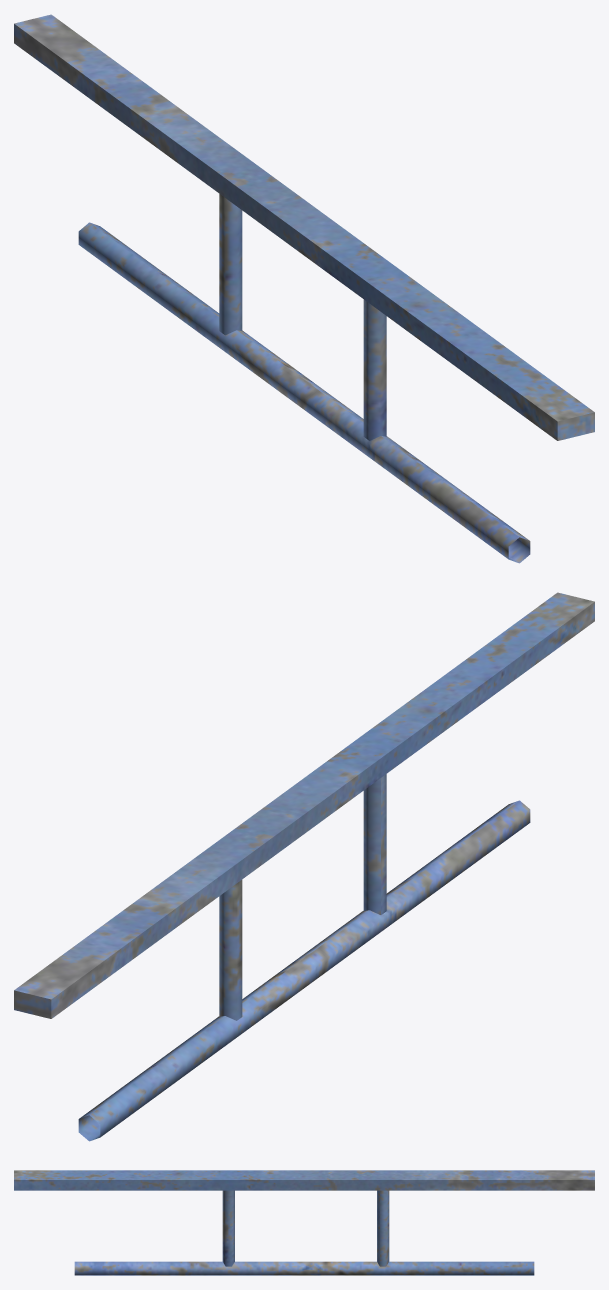
The model's file is SM_scaffold_c.fbx.
3 renders of one model, top to bottom at view 1: azimuth 30°, elevation 25°; view 2: azimuth 150°, elevation 25°; view 3: azimuth 270°, elevation 25°, orthographic. The views are drawn at different scales.
Parts seen in each view (by area): view 1: SM_scaffold_c; view 2: SM_scaffold_c; view 3: SM_scaffold_c.
Part boxes in pixels (x1,y1,x2,y2): SM_scaffold_c: (14,14,594,563); SM_scaffold_c: (14,592,594,1141); SM_scaffold_c: (14,1170,594,1275).
Bounding box in the file's own units: 7.18 × 181 × 34.5.
Materials: 1 (1 with a texture image).
